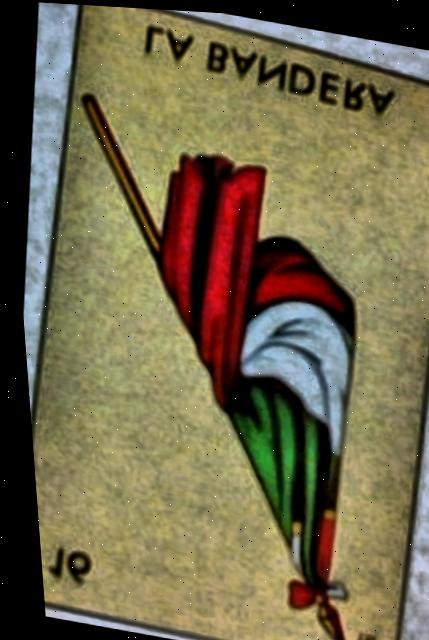La Bandera: (26, 4, 429, 640)
